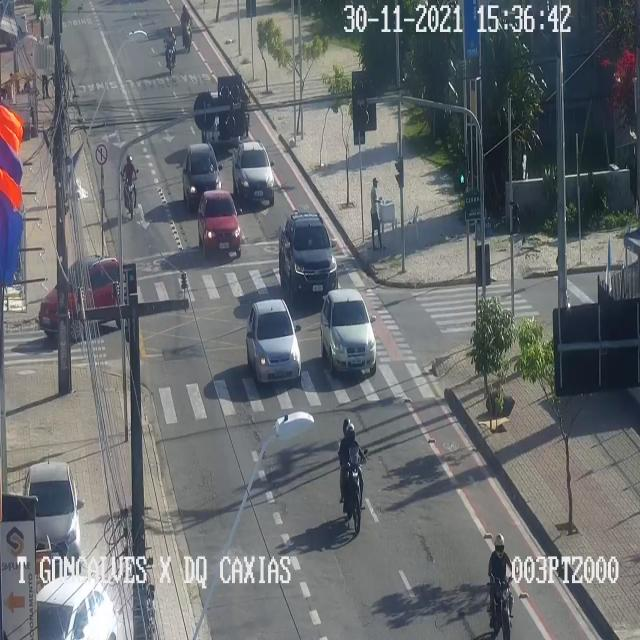Car: (38, 255, 130, 340), (24, 463, 84, 564), (318, 284, 376, 382), (278, 209, 338, 303), (246, 298, 302, 388), (36, 579, 114, 639), (196, 191, 244, 267), (233, 140, 277, 212), (182, 142, 223, 212)
Motorcycle: (338, 417, 369, 537), (487, 532, 513, 639), (121, 156, 140, 220), (180, 5, 194, 52), (164, 26, 176, 77)
